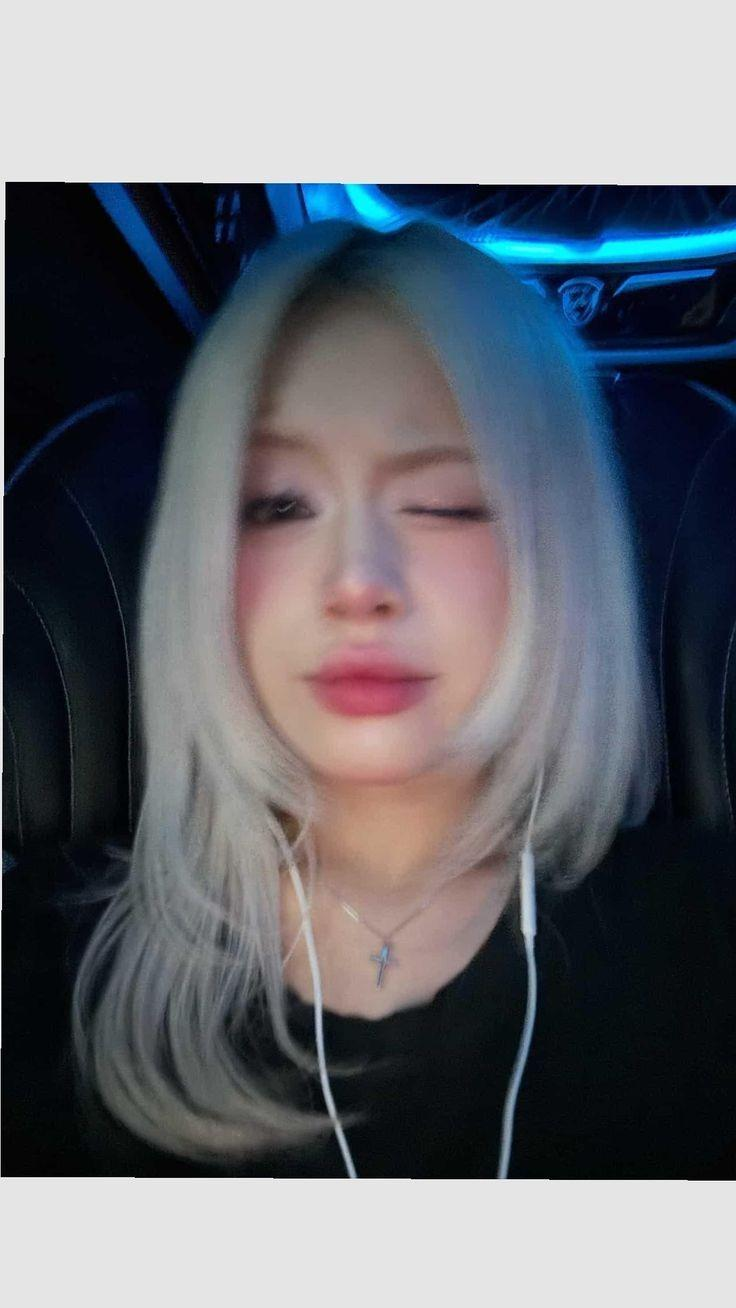non-dog: (0, 214, 732, 1184)
